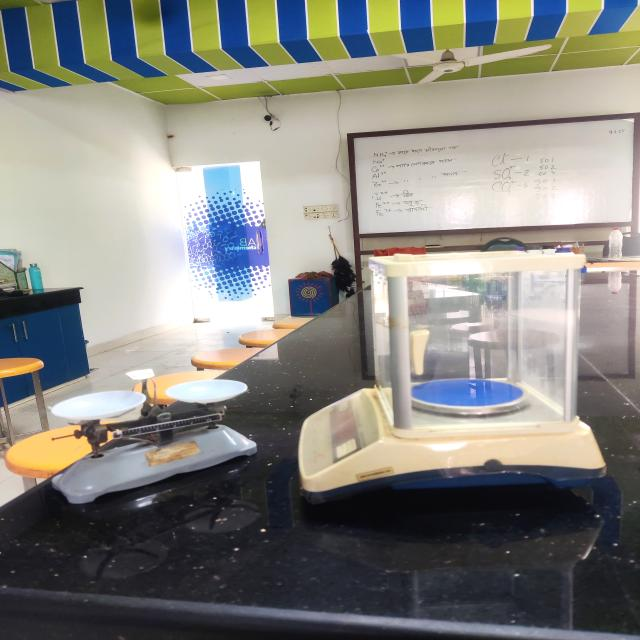Mechanical_Balance_Scale: (15, 370, 264, 540)
Precision_Weight_Scale: (290, 240, 627, 530)
